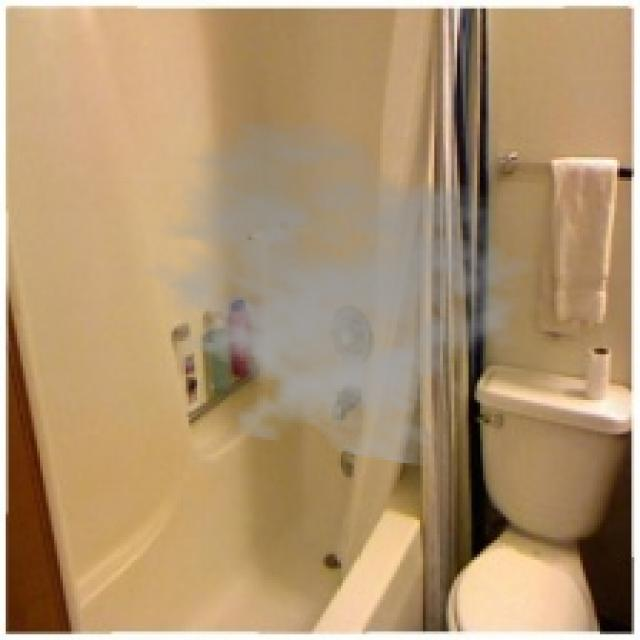smoke: (123, 114, 540, 469)
